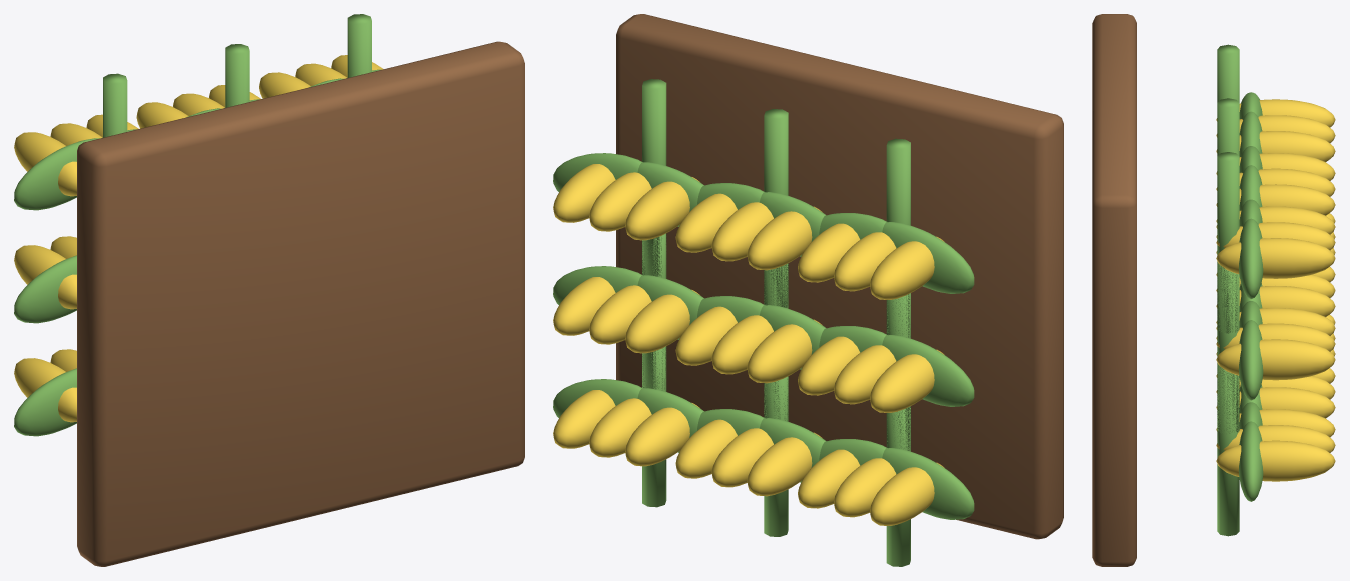
The model's file is corn_growing.glb.
3 views of the same model, side by side, from view 1: azimuth 30°, elevation 25°; view 2: azimuth 150°, elevation 25°; view 3: azimuth 270°, elevation 25° (orthographic). The views are drawn at different scales.
Parts seen in each view (by area): view 1: Soil, Leaf.004, Leaf, Leaf.002, Cob, Cob.003, Cob.006, Stem.008, Stem.005, Stem.002, Cob.015, Cob.024 (+3 smaller); view 2: Soil, Stem.005, Stem.008, Leaf.002, Leaf.004, Leaf, Cob, Cob.003, Cob.006, Cob.015, Cob.012, Cob.021 (+43 smaller); view 3: Soil, Stem.006, Cob.026, Cob.023, Cob.020, Stem.008, Stem.007, Cob.011, Cob.017, Cob.008, Cob.014, Leaf.017 (+23 smaller).
Part boxes in pixels (x1,y1,x2,y2): Soil: (77,41,524,566); Leaf.004: (14,138,99,210); Leaf: (14,368,76,436); Leaf.002: (14,255,76,323); Cob: (14,358,76,422); Cob.003: (14,245,76,309); Cob.006: (14,132,76,196); Stem.008: (347,14,371,77); Stem.005: (225,44,249,107); Stem.002: (103,73,127,137); Cob.015: (136,102,188,128); Cob.024: (259,72,310,98); Soil: (616,14,1063,539); Stem.005: (764,109,788,307); Stem.008: (642,79,666,276); Leaf.002: (882,335,974,406); Leaf.004: (882,222,974,293); Leaf: (882,448,974,519); Cob: (870,462,944,525); Cob.003: (870,349,944,412); Cob.006: (870,236,944,299); Cob.015: (747,206,822,270); Cob.012: (747,319,822,383); Cob.021: (625,289,699,353); Soil: (1092,14,1136,566); Stem.006: (1217,363,1239,536); Cob.026: (1216,238,1335,278); Cob.023: (1216,339,1335,380); Cob.020: (1216,440,1335,481); Stem.008: (1217,152,1239,333); Stem.007: (1217,262,1239,433); Cob.011: (1216,387,1335,418); Cob.017: (1216,184,1335,215); Cob.008: (1216,131,1335,161); Cob.014: (1216,286,1335,316); Leaf.017: (1238,218,1263,298).
Bounding box in the file's own units: 1.2 × 1.11 × 0.6525.
